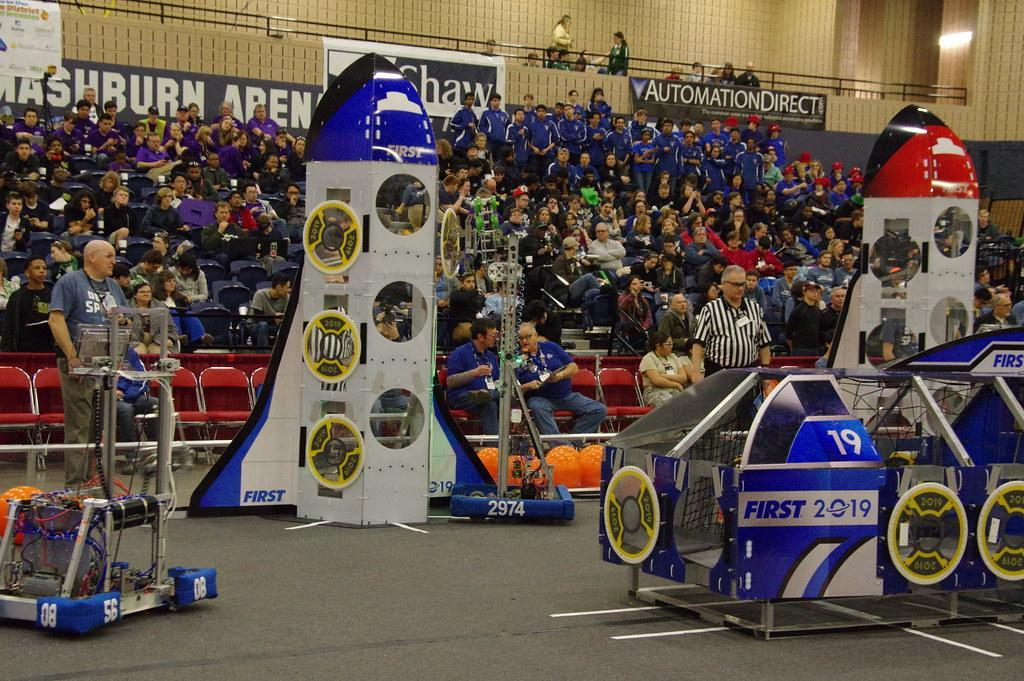robot: (0, 285, 224, 641), (442, 208, 580, 525)
